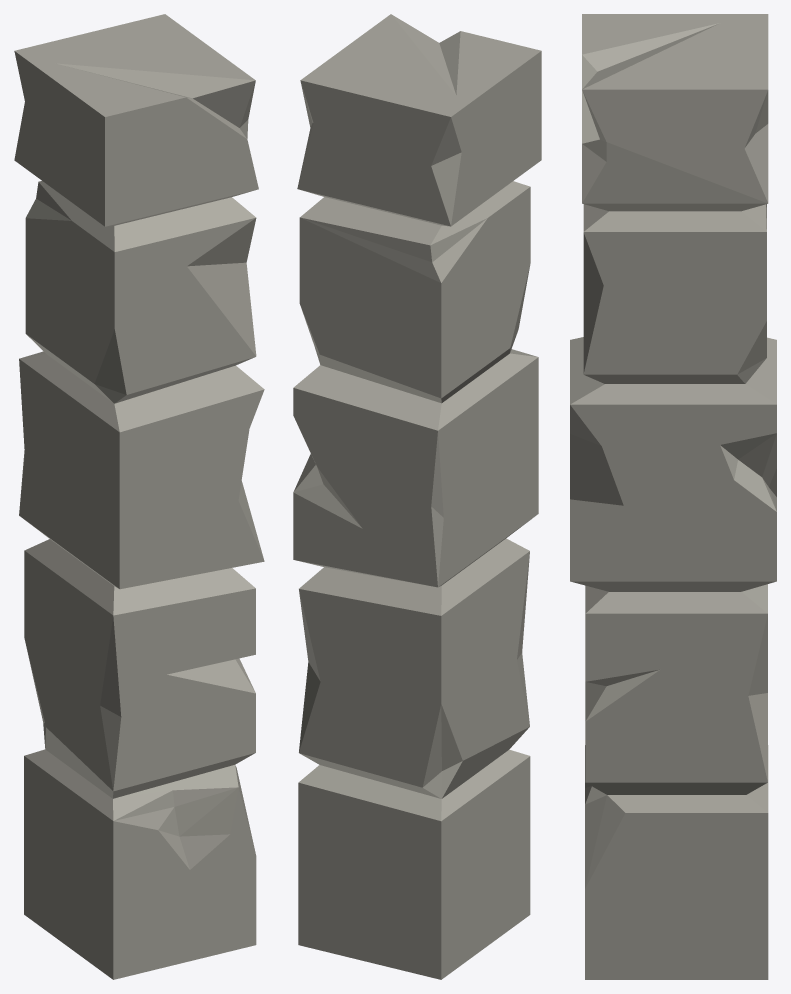
The model's file is rpgpp_ag_wall_connector_corner_03a_3m.fbx.
3 views of the same model, side by side, from view 1: azimuth 30°, elevation 25°; view 2: azimuth 150°, elevation 25°; view 3: azimuth 270°, elevation 25° (orthographic). The views are drawn at different scales.
Parts seen in each view (by area): view 1: rpgpp_ag_wall_connector_corner_03a_3m; view 2: rpgpp_ag_wall_connector_corner_03a_3m; view 3: rpgpp_ag_wall_connector_corner_03a_3m.
Boxes of the visible parts, x1,y1,x2,y2 form: rpgpp_ag_wall_connector_corner_03a_3m: [14, 14, 264, 979]; rpgpp_ag_wall_connector_corner_03a_3m: [293, 14, 541, 979]; rpgpp_ag_wall_connector_corner_03a_3m: [570, 14, 776, 979].
Bounding box in the file's own units: 0.5626 × 3 × 0.6325.
